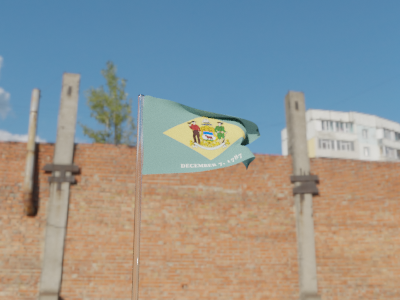Delaware flag: (140, 96, 261, 175)
